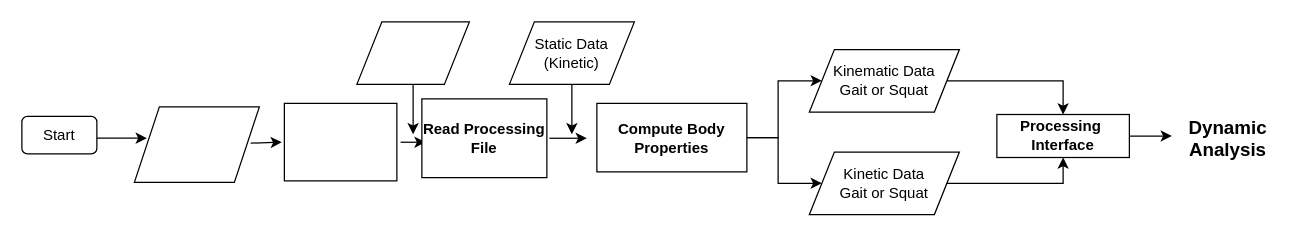
Some shapes in this 1294 by 238 pixel diagram are drawn without their labels. The shapes that lost their labels are listed below. From the top down, each one's centre as x and y in pixels, then its label:
the point at 412,52: Processing File
the point at 196,144: Static Data (Kinematic)
the point at 340,141: Read and Process Data
